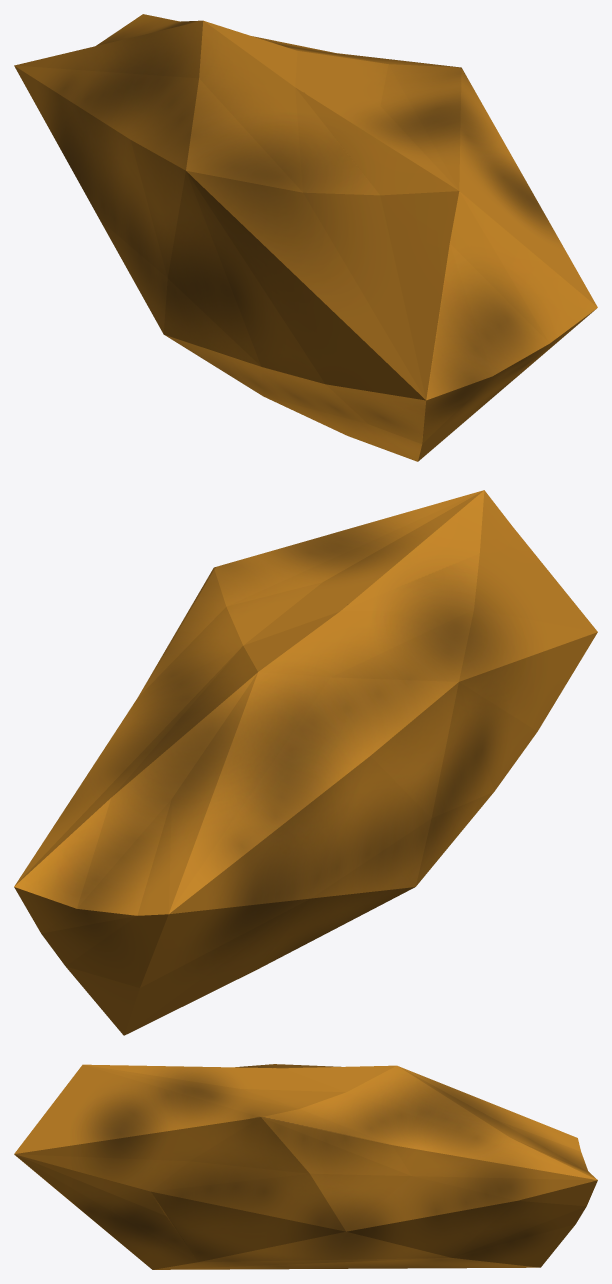
The model's file is Resource_Copper.fbx.
The picture shows the model from 3 angles, top to bottom: view 1: azimuth 30°, elevation 25°; view 2: azimuth 150°, elevation 25°; view 3: azimuth 270°, elevation 25°; orthographic projection. The views are drawn at different scales.
Parts seen in each view (by area): view 1: OreDeposit; view 2: OreDeposit; view 3: OreDeposit.
Boxes of the visible parts, x1,y1,x2,y2 form: OreDeposit: (14, 14, 597, 461); OreDeposit: (14, 490, 597, 1035); OreDeposit: (14, 1064, 597, 1269).
Size of the model in its own units: 35.59 by 11.95 by 13.53.
1 material, 1 textured.
